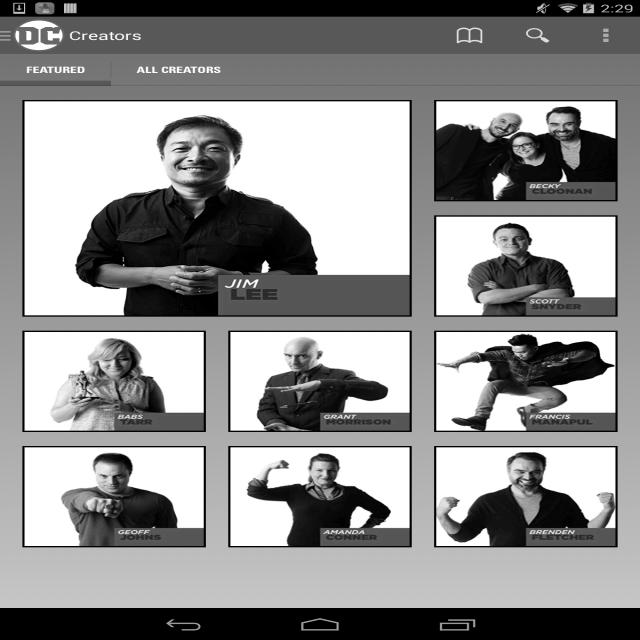ImageButton: (571, 16, 640, 54)
ImageView: (22, 100, 412, 317), (434, 215, 618, 317), (434, 100, 618, 201), (22, 331, 206, 432), (228, 331, 412, 432), (434, 331, 618, 432), (22, 446, 206, 547), (228, 446, 412, 547), (434, 446, 618, 547), (14, 19, 64, 52), (0, 30, 17, 41)
TextView: (111, 54, 247, 86), (0, 54, 111, 86), (435, 17, 504, 54), (503, 17, 572, 54), (69, 27, 142, 43)
